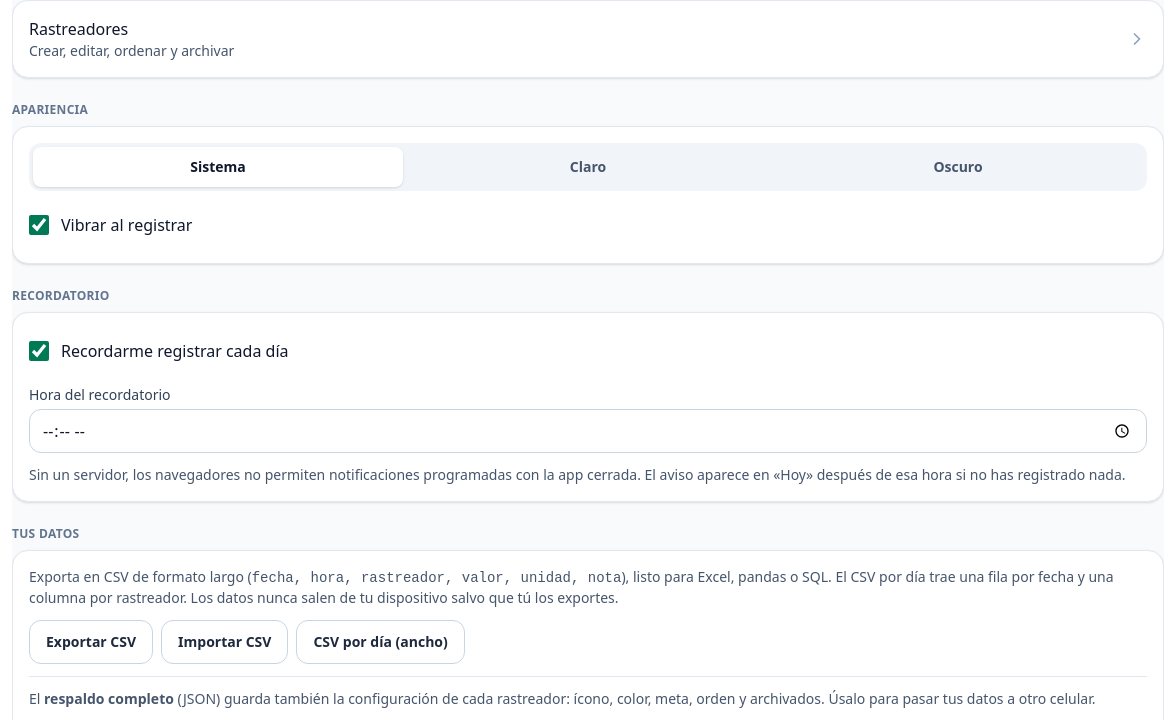
Test: SettingsScreen · CSV › avisa si no hay nada que exportar
Click the button "Exportar CSV" at x=91, y=642, box [29, 620, 153, 664]
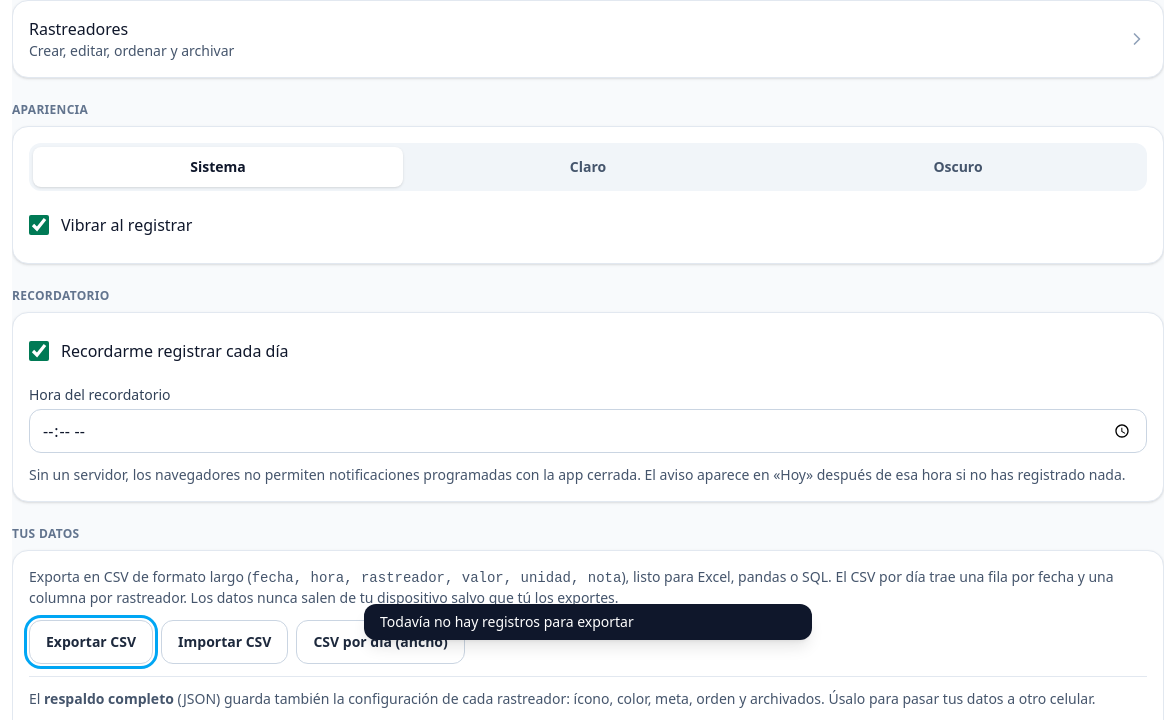
Expected: the text "Todavía no hay registros para exportar" is shown, [380, 612, 634, 632]
